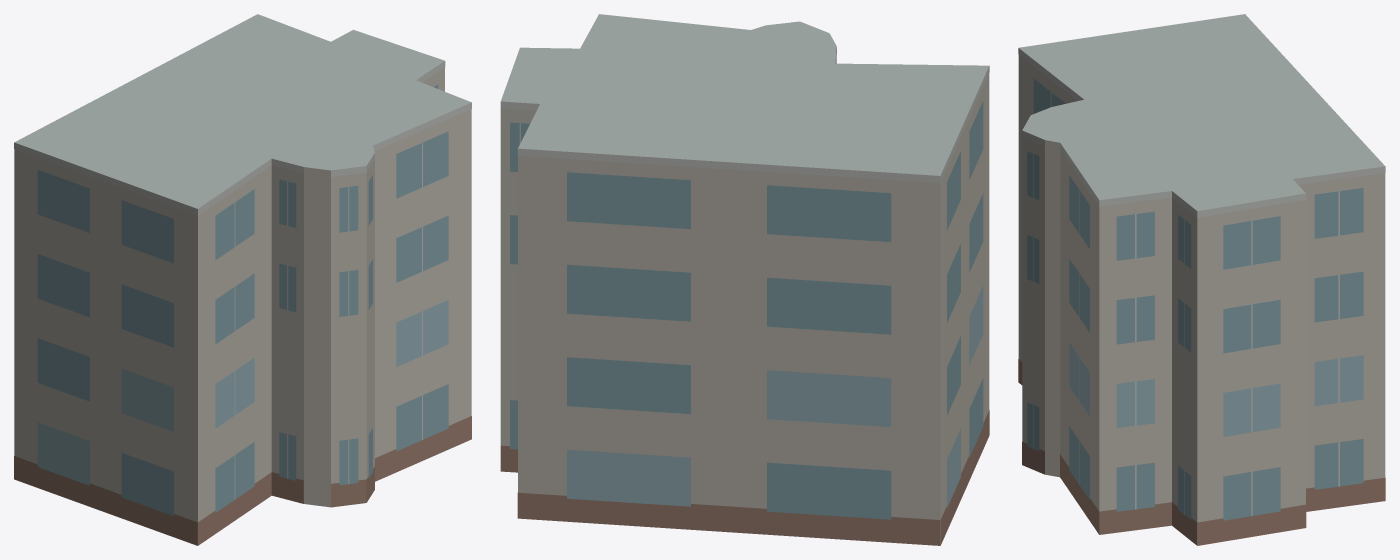
File: survey-upis-32864797.glb
3 renders of one model, left to right at view 1: azimuth 30°, elevation 25°; view 2: azimuth 150°, elevation 25°; view 3: azimuth 270°, elevation 25°, orthographic. The views are drawn at different scales.
Parts seen in each view (by area): view 1: survey-upis-32864797.tmp; view 2: survey-upis-32864797.tmp; view 3: survey-upis-32864797.tmp.
Part boxes in pixels (box(x1,y1,x2,y2)): survey-upis-32864797.tmp: box(14, 14, 471, 545); survey-upis-32864797.tmp: box(500, 14, 989, 545); survey-upis-32864797.tmp: box(1018, 14, 1385, 545).
Size of the model in its own units: 16 by 12.65 by 12.58.
